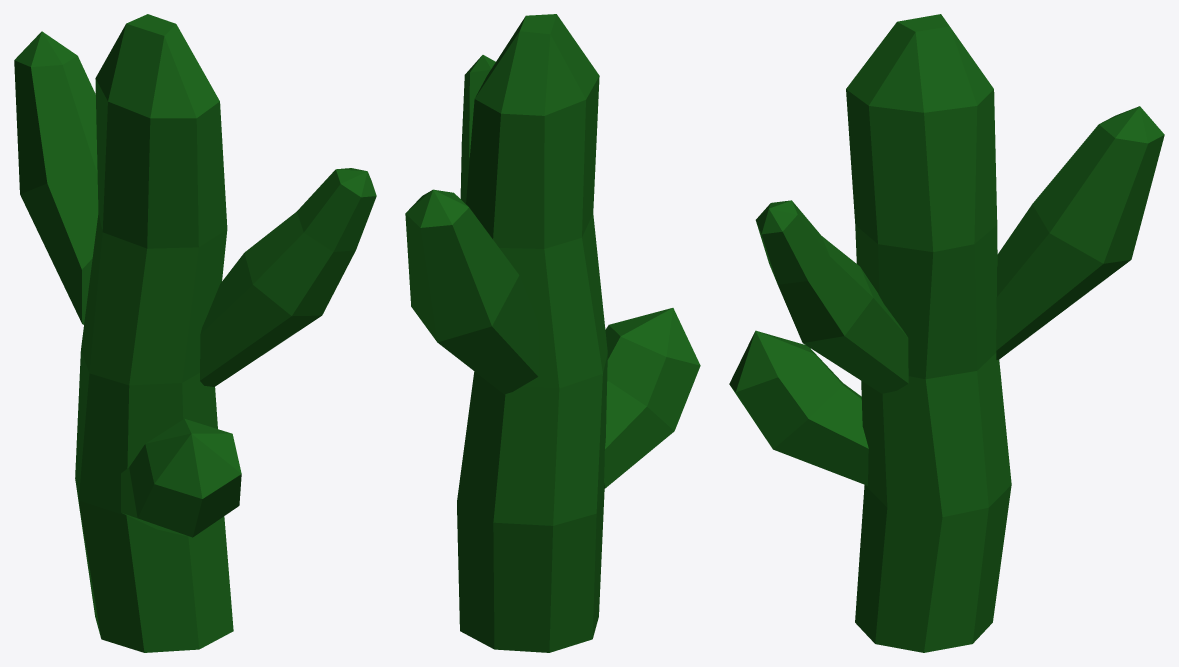
Rendered from cactus-5.glb.
The picture shows the model from 3 angles, left to right: view 1: azimuth 30°, elevation 25°; view 2: azimuth 150°, elevation 25°; view 3: azimuth 270°, elevation 25°; orthographic projection.
Visible parts, largest first — view 1: Cylinder, Cylinder.003, Cylinder.001, Cylinder.004; view 2: Cylinder, Cylinder.001, Cylinder.004, Cylinder.003; view 3: Cylinder, Cylinder.001, Cylinder.003, Cylinder.004.
Boxes of the visible parts, <box> form: Cylinder: <box>75,14,233,652</box>; Cylinder.003: <box>200,168,376,386</box>; Cylinder.001: <box>14,31,98,324</box>; Cylinder.004: <box>121,418,241,537</box>; Cylinder: <box>457,14,607,652</box>; Cylinder.001: <box>405,189,538,394</box>; Cylinder.004: <box>604,308,700,488</box>; Cylinder.003: <box>460,55,495,203</box>; Cylinder: <box>846,14,1011,652</box>; Cylinder.001: <box>996,106,1164,359</box>; Cylinder.003: <box>755,200,908,393</box>; Cylinder.004: <box>729,330,868,485</box>.
Bounding box in the file's own units: 1.33 × 3.36 × 2.23.
